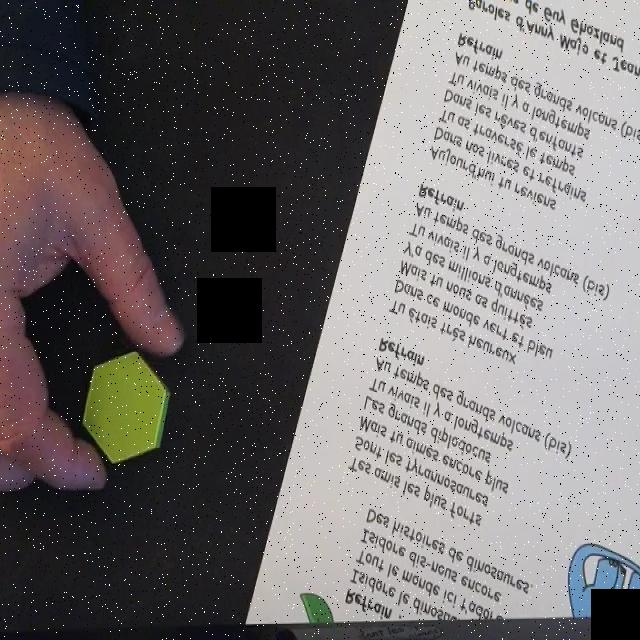hexagon: (80, 349, 170, 465)
